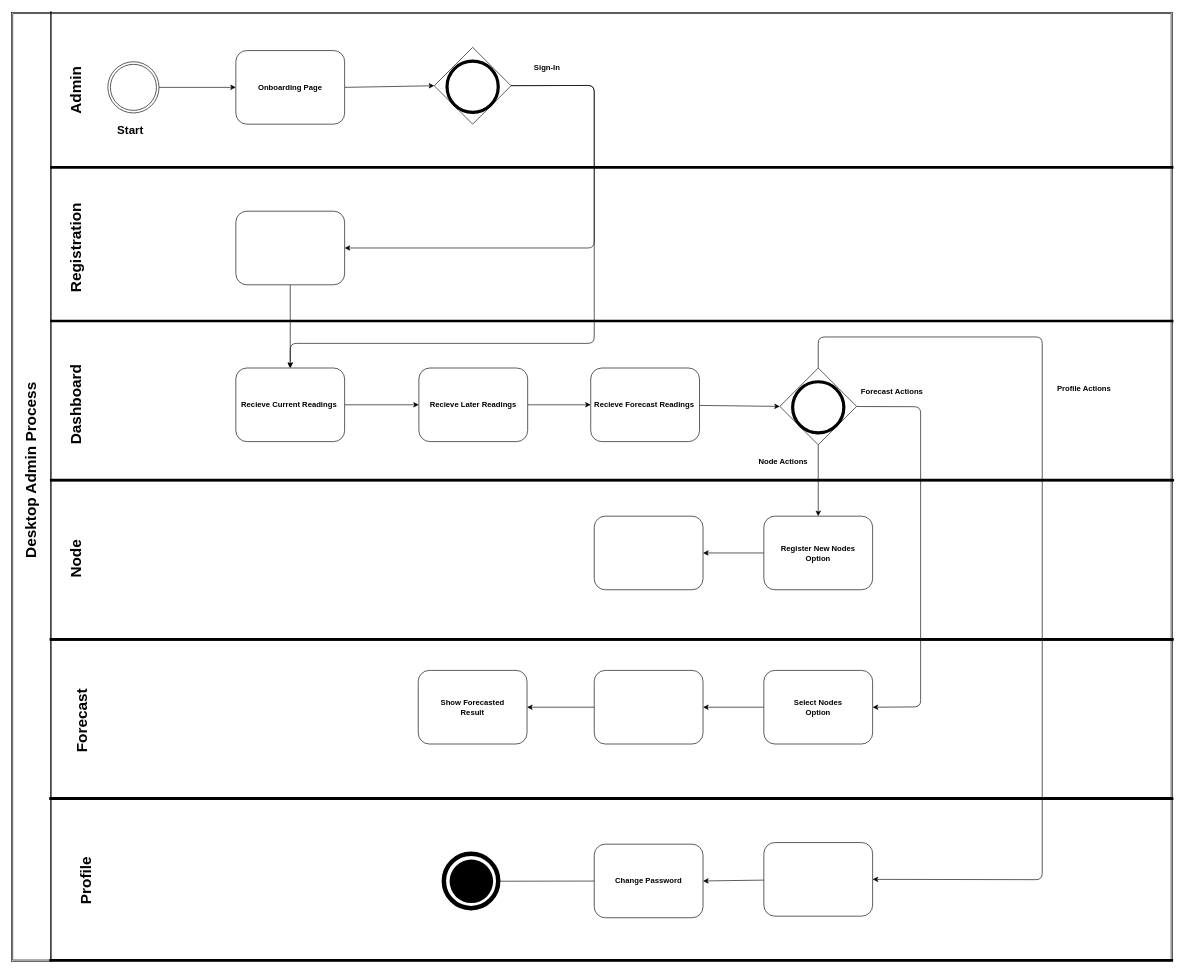
Some shapes in this 1186 by 976 pixel diagram are drawn without their labels. Each missing label, with the centre of its shape:
"Edit Nodes Option" goes at point 648,553.
"Forecast Option" goes at point 648,707.
"Register Options (G )" goes at point 290,248.
"Support" goes at point 818,879.
